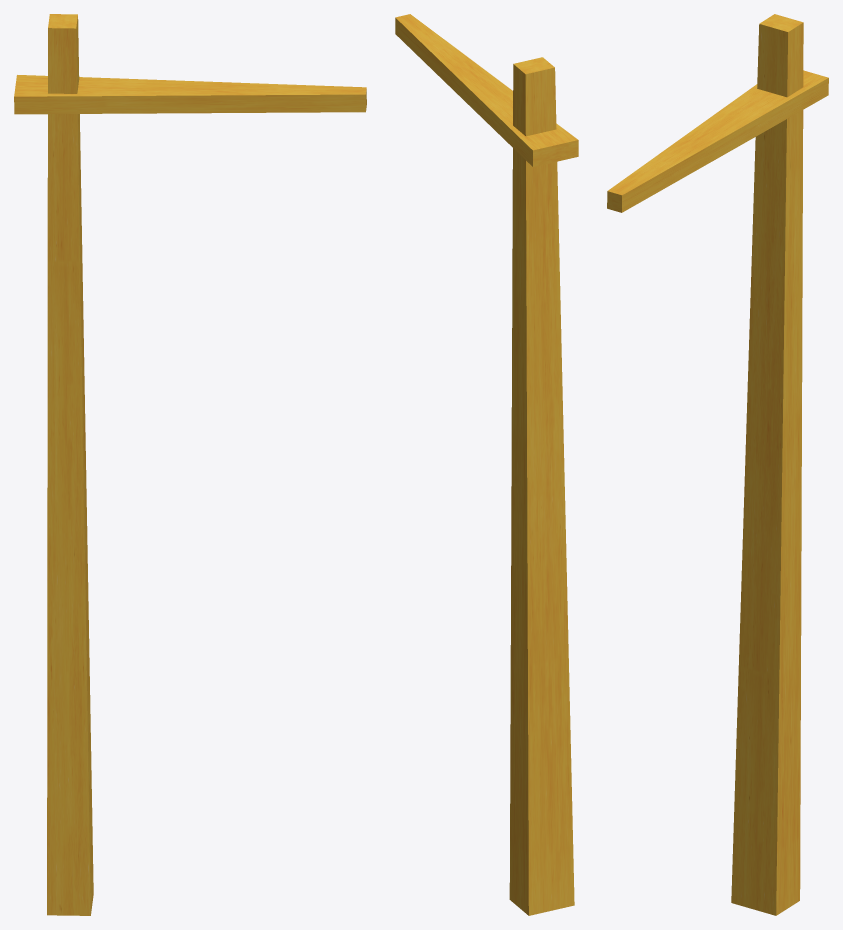
The model's file is WreckingBallBase.obj.
3 views of the same model, side by side, from view 1: azimuth 30°, elevation 25°; view 2: azimuth 150°, elevation 25°; view 3: azimuth 270°, elevation 25° (orthographic). The views are drawn at different scales.
Visible parts, largest first — view 1: pasted__pCube1 pasted__WreckingBallCraneBase pasted__WreckingBal, pasted__WreckingBallCraneBase pasted__WreckingBallAll pasted__Wo; view 2: pasted__pCube1 pasted__WreckingBallCraneBase pasted__WreckingBal, pasted__WreckingBallCraneBase pasted__WreckingBallAll pasted__Wo; view 3: pasted__pCube1 pasted__WreckingBallCraneBase pasted__WreckingBal, pasted__WreckingBallCraneBase pasted__WreckingBallAll pasted__Wo.
Boxes of the visible parts, box(x1,y1,x2,y2) form: pasted__pCube1 pasted__WreckingBallCraneBase pasted__WreckingBal: box(47, 14, 93, 915); pasted__WreckingBallCraneBase pasted__WreckingBallAll pasted__Wo: box(14, 75, 366, 114); pasted__pCube1 pasted__WreckingBallCraneBase pasted__WreckingBal: box(509, 57, 574, 915); pasted__WreckingBallCraneBase pasted__WreckingBallAll pasted__Wo: box(395, 14, 578, 166); pasted__pCube1 pasted__WreckingBallCraneBase pasted__WreckingBal: box(731, 14, 803, 915); pasted__WreckingBallCraneBase pasted__WreckingBallAll pasted__Wo: box(607, 70, 828, 212).
Bounding box in the file's own units: 66.04 × 204 × 46.61.
1 material, 1 textured.
